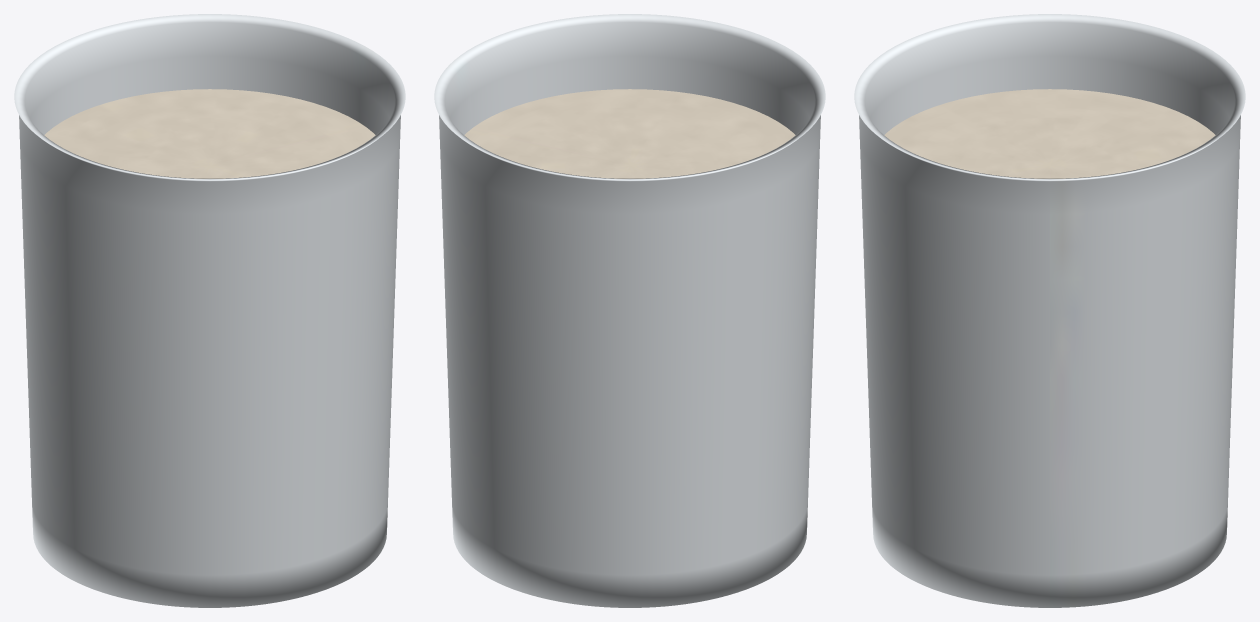
The model's file is cortado.glb.
3 renders of one model, left to right at view 1: azimuth 30°, elevation 25°; view 2: azimuth 150°, elevation 25°; view 3: azimuth 270°, elevation 25°, orthographic.
Visible parts, largest first — view 1: clear, satin; view 2: clear, satin; view 3: clear, satin.
Boxes of the visible parts, x1=… form: clear: x1=14, y1=14, x2=405, y2=607; satin: x1=44, y1=89, x2=375, y2=178; clear: x1=434, y1=14, x2=825, y2=607; satin: x1=464, y1=89, x2=795, y2=178; clear: x1=854, y1=14, x2=1245, y2=607; satin: x1=884, y1=89, x2=1215, y2=178.
Size of the model in its own units: 0.073 by 0.0898 by 0.073.
Materials: 2 (2 with a texture image).
